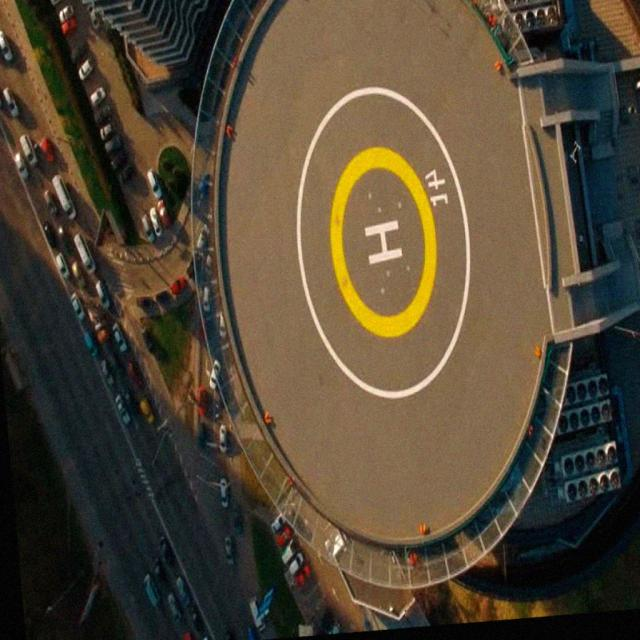helipad: (326, 144, 442, 342)
